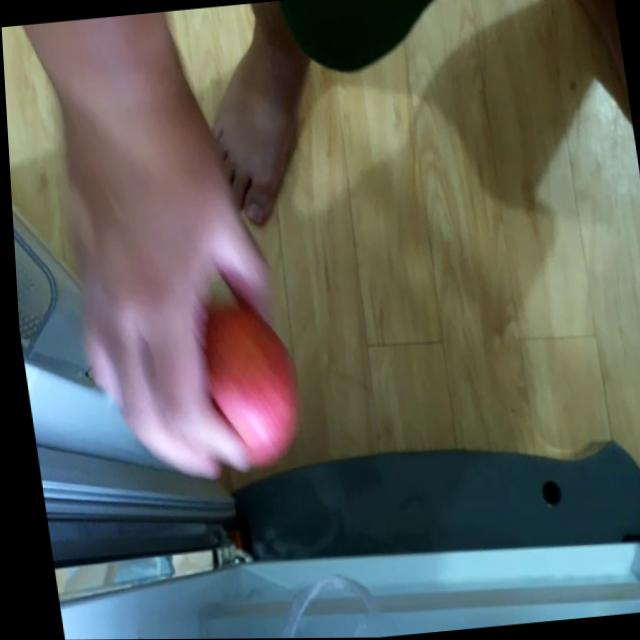apple: (184, 284, 305, 462)
